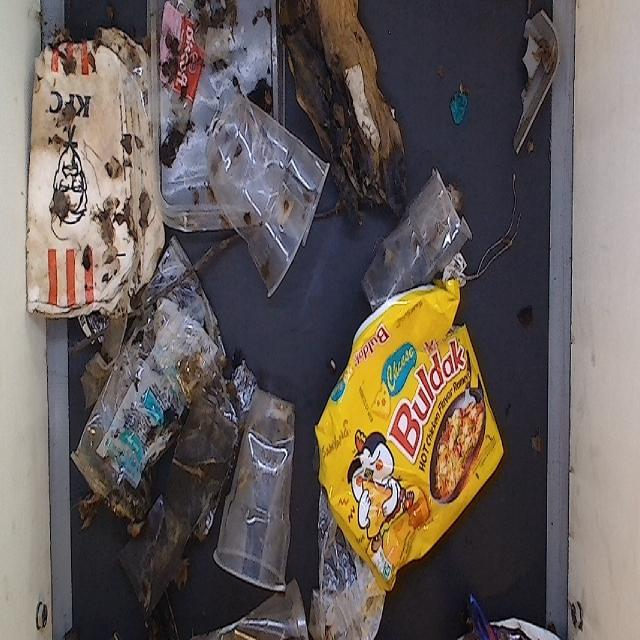food_packaging: (32, 23, 166, 325), (141, 0, 301, 244), (279, 0, 404, 237)
food_wrapping: (312, 268, 503, 562), (83, 249, 217, 504)
plastic_cups: (196, 67, 326, 300), (106, 403, 242, 601), (355, 148, 467, 314), (230, 362, 300, 620)
undef_hard_plastic: (513, 0, 561, 176), (452, 90, 470, 130)
